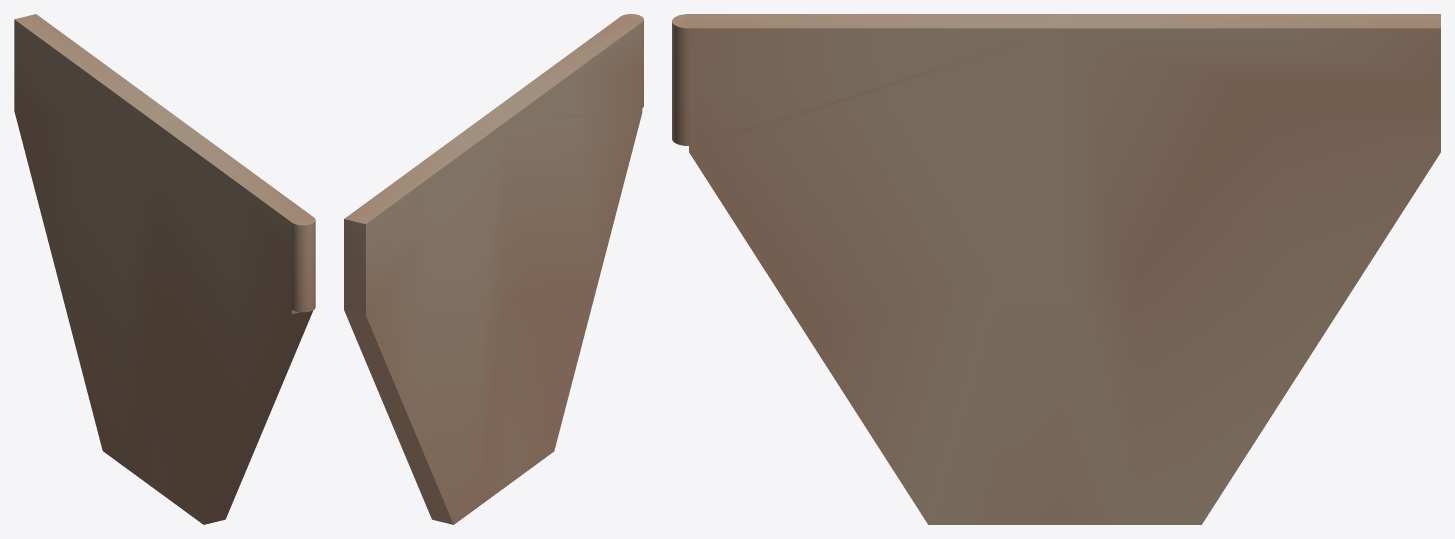
Rendered from Wagonnet_Door_rotate_color.glb.
3 renders of one model, left to right at view 1: azimuth 30°, elevation 25°; view 2: azimuth 150°, elevation 25°; view 3: azimuth 270°, elevation 25°, orthographic. The views are drawn at different scales.
Parts seen in each view (by area): view 1: open tha door A.1; view 2: open tha door A.1; view 3: open tha door A.1.
Boxes of the visible parts, x1,y1,x2,y2 form: open tha door A.1: (14,14,315,524); open tha door A.1: (344,14,643,524); open tha door A.1: (672,14,1440,524).
Size of the model in its own units: 0.05 by 0.8015 by 1.13.
